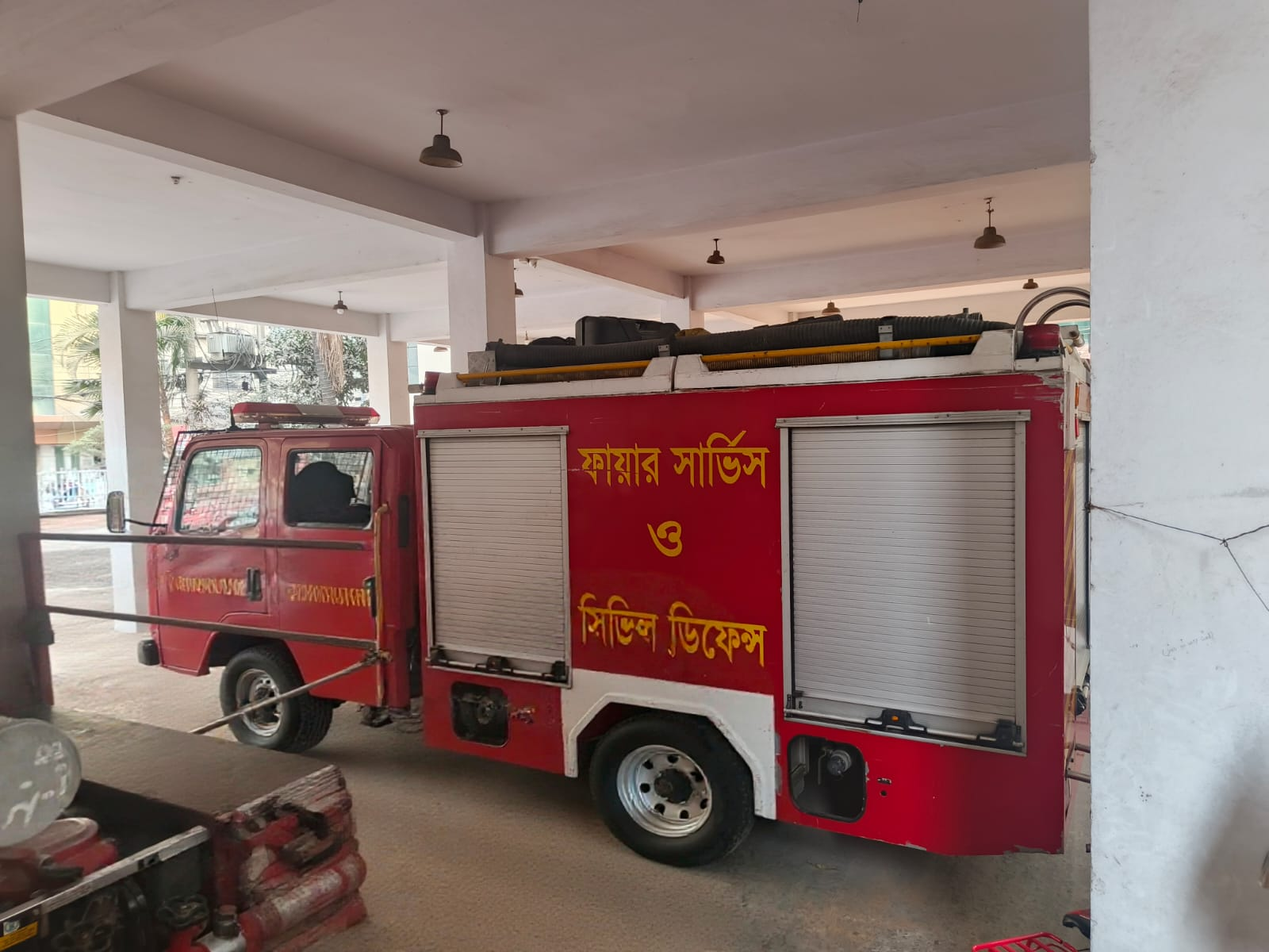Fire truck: (103, 290, 1129, 876)
